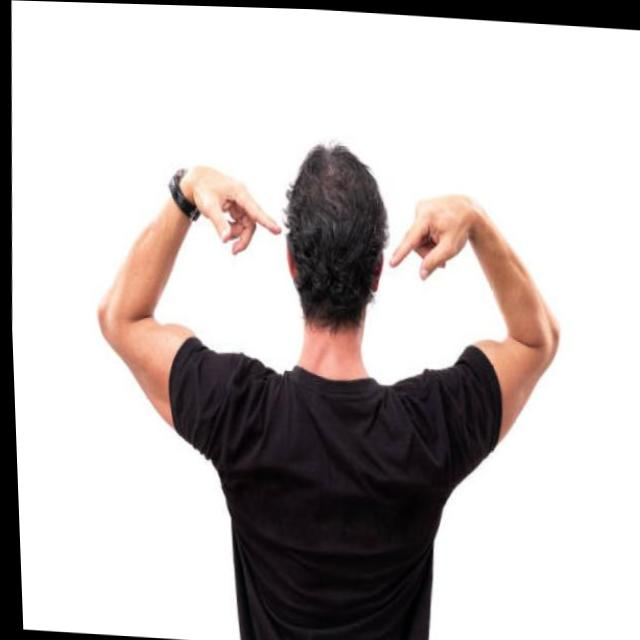no helmet: (265, 140, 396, 346)
